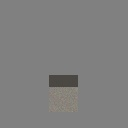supply_truck: (49, 75, 78, 112)
